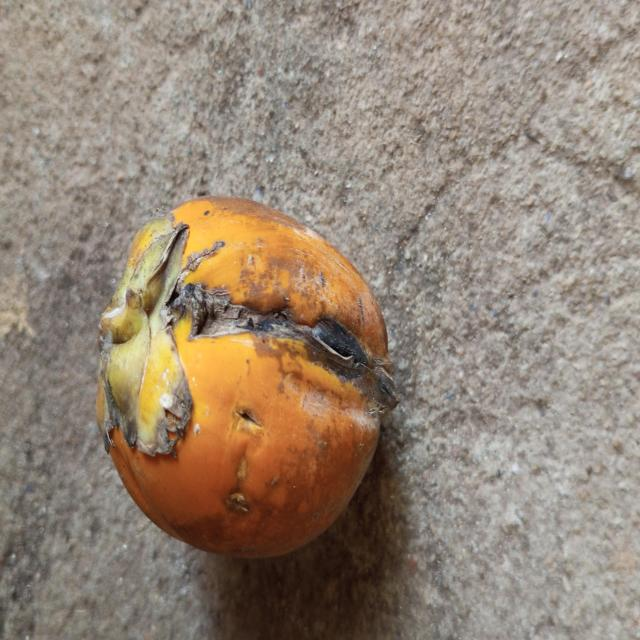damaged: (94, 196, 393, 563)
